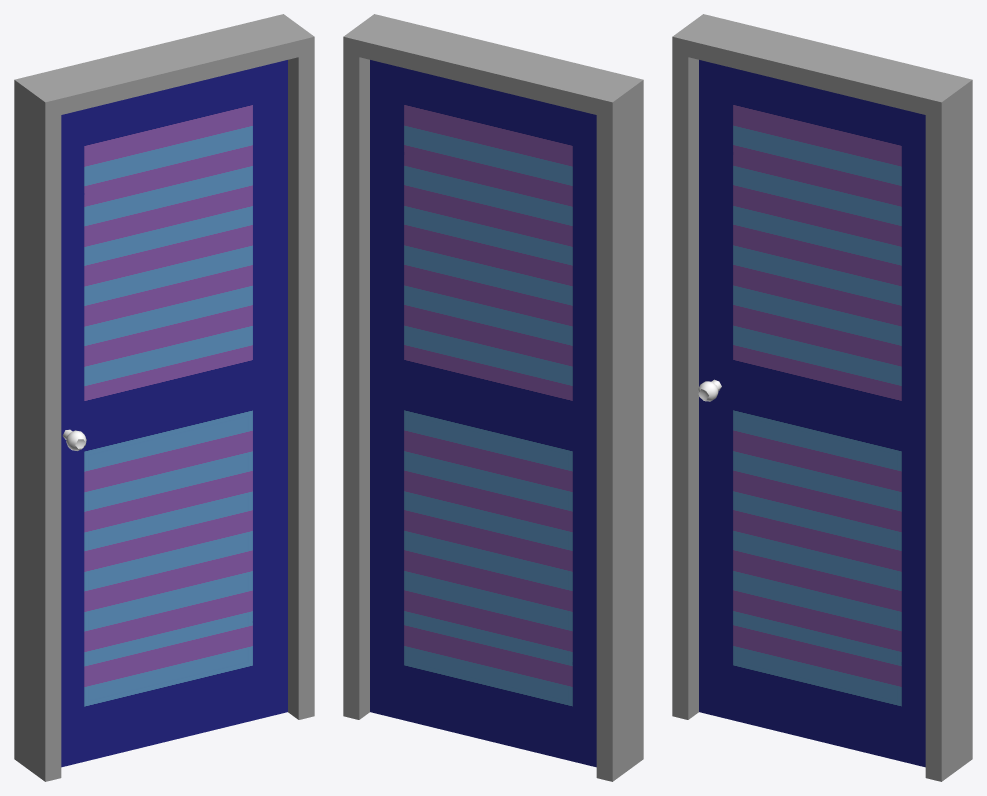
The model's file is ElectricRoomDoor.fbx.
3 views of the same model, side by side, from view 1: azimuth 30°, elevation 25°; view 2: azimuth 150°, elevation 25°; view 3: azimuth 330°, elevation 25° (orthographic).
Visible parts, largest first — view 1: ElectricalDoor, ElectricRoomDoorFrame; view 2: ElectricalDoor, ElectricRoomDoorFrame; view 3: ElectricalDoor, ElectricRoomDoorFrame.
Part boxes in pixels (<box>): ElectricalDoor: <box>61,60,287,767</box>; ElectricRoomDoorFrame: <box>14,14,314,781</box>; ElectricalDoor: <box>370,60,596,767</box>; ElectricRoomDoorFrame: <box>343,14,643,781</box>; ElectricalDoor: <box>698,60,925,767</box>; ElectricRoomDoorFrame: <box>672,14,972,781</box>.
Size of the model in its own units: 86.36 by 208 by 18.39.
